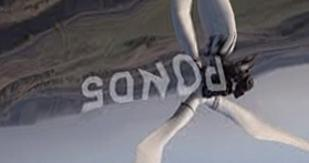faulty: (182, 46, 259, 125)
